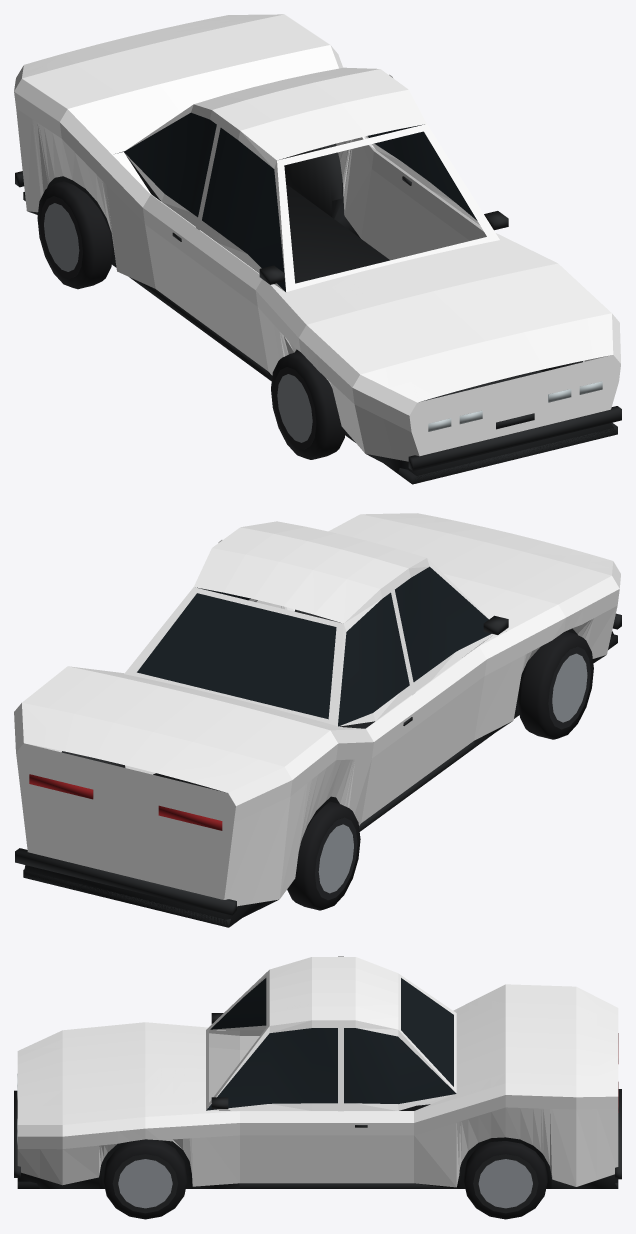
Rendered from ashby_estrondo.glb.
3 renders of one model, top to bottom at view 1: azimuth 30°, elevation 25°; view 2: azimuth 150°, elevation 25°; view 3: azimuth 270°, elevation 25°, orthographic. The views are drawn at different scales.
Visible parts, largest first — view 1: Body_Paint, Body_Details, Mount_RearLeft_Wheel_Details, Mount_FrontLeft_Wheel_Details; view 2: Body_Paint, Body_Details, Mount_FrontLeft_Wheel_Details, Mount_RearLeft_Wheel_Details; view 3: Body_Paint, Body_Details, Mount_FrontRight_Wheel_Details, Mount_RearRight_Wheel_Details.
Part boxes in pixels (x1,y1,x2,y2): Body_Paint: (14, 14, 620, 461); Body_Details: (15, 112, 621, 484); Mount_RearLeft_Wheel_Details: (37, 181, 113, 289); Mount_FrontLeft_Wheel_Details: (271, 351, 345, 459); Body_Paint: (14, 513, 620, 906); Body_Details: (15, 566, 621, 927); Mount_FrontLeft_Wheel_Details: (518, 631, 593, 739); Mount_RearLeft_Wheel_Details: (287, 801, 360, 910); Body_Paint: (17, 956, 618, 1187); Body_Details: (14, 978, 621, 1188); Mount_FrontRight_Wheel_Details: (103, 1139, 187, 1219); Mount_RearRight_Wheel_Details: (463, 1141, 547, 1219).
Bounding box in the file's own units: 1.95 × 1.59 × 4.78.
2 materials, 1 textured.
